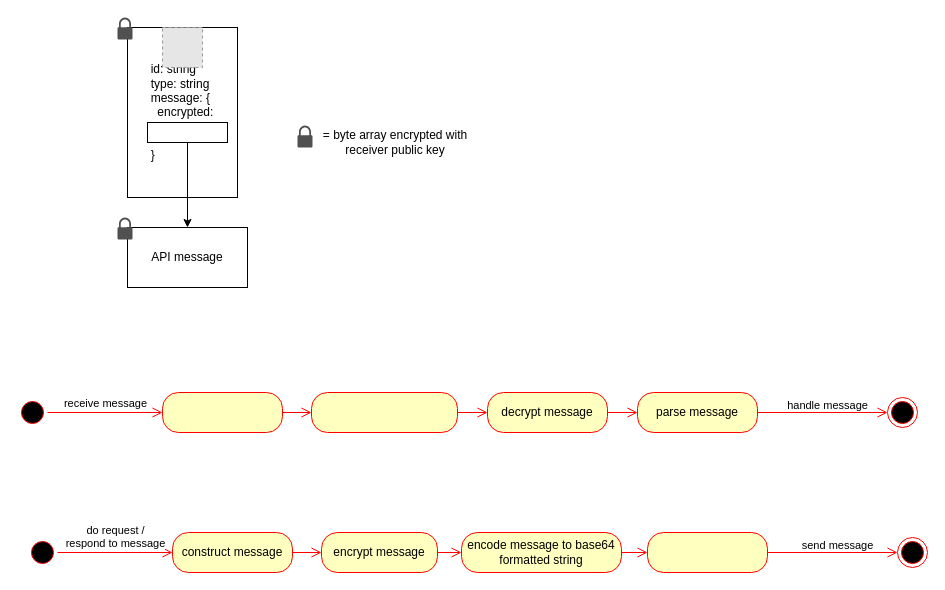
This 945x590 diagram has some shape labels left out. Grey dashed boxes stand in for pictures. Each missing label, with the centre of its shape:
base64 string: the point at 187,132
decode base64 formatted message string: the point at 384,412
decrypt envelope: the point at 222,412
encrypt envelope: the point at 707,552
